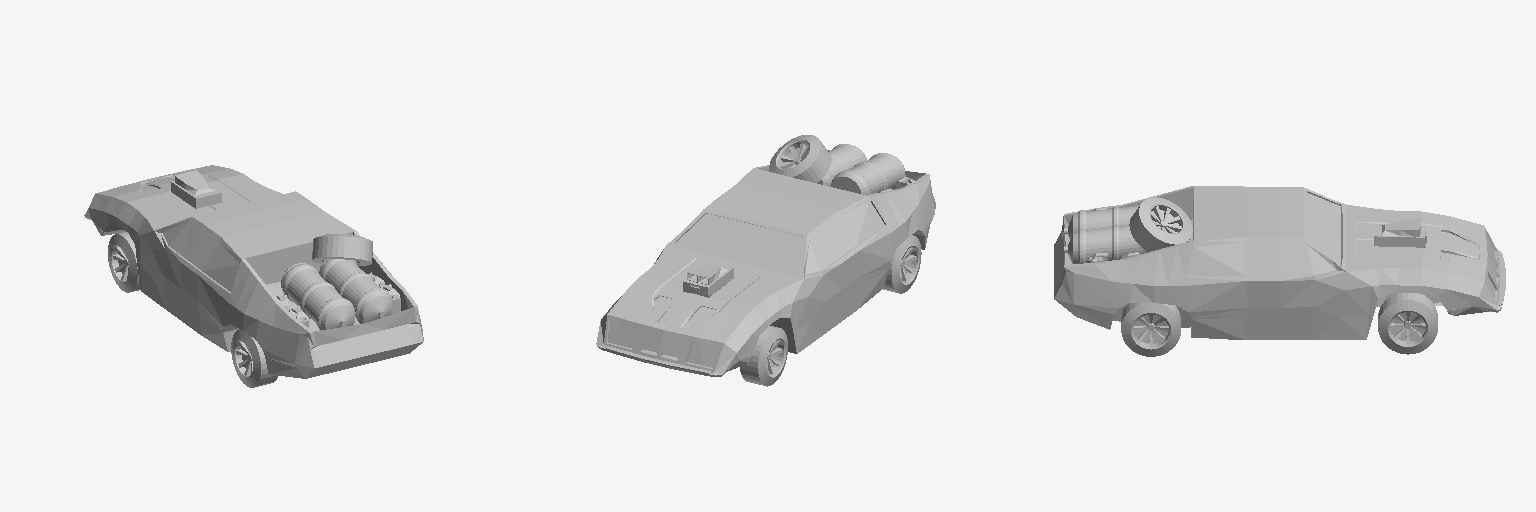
File: mad.obj
The picture shows the model from 3 angles: view 1: azimuth 30°, elevation 25°; view 2: azimuth 150°, elevation 25°; view 3: azimuth 270°, elevation 25°; orthographic projection.
Parts seen in each view (by area): view 1: can_2_Cube.002; view 2: can_2_Cube.002; view 3: can_2_Cube.002.
Boxes of the visible parts, box(x1,y1,x2,y2) form: can_2_Cube.002: box(84, 165, 423, 387); can_2_Cube.002: box(596, 135, 935, 386); can_2_Cube.002: box(1054, 186, 1505, 356).
Size of the model in its own units: 5.17 by 4.1 by 12.99.